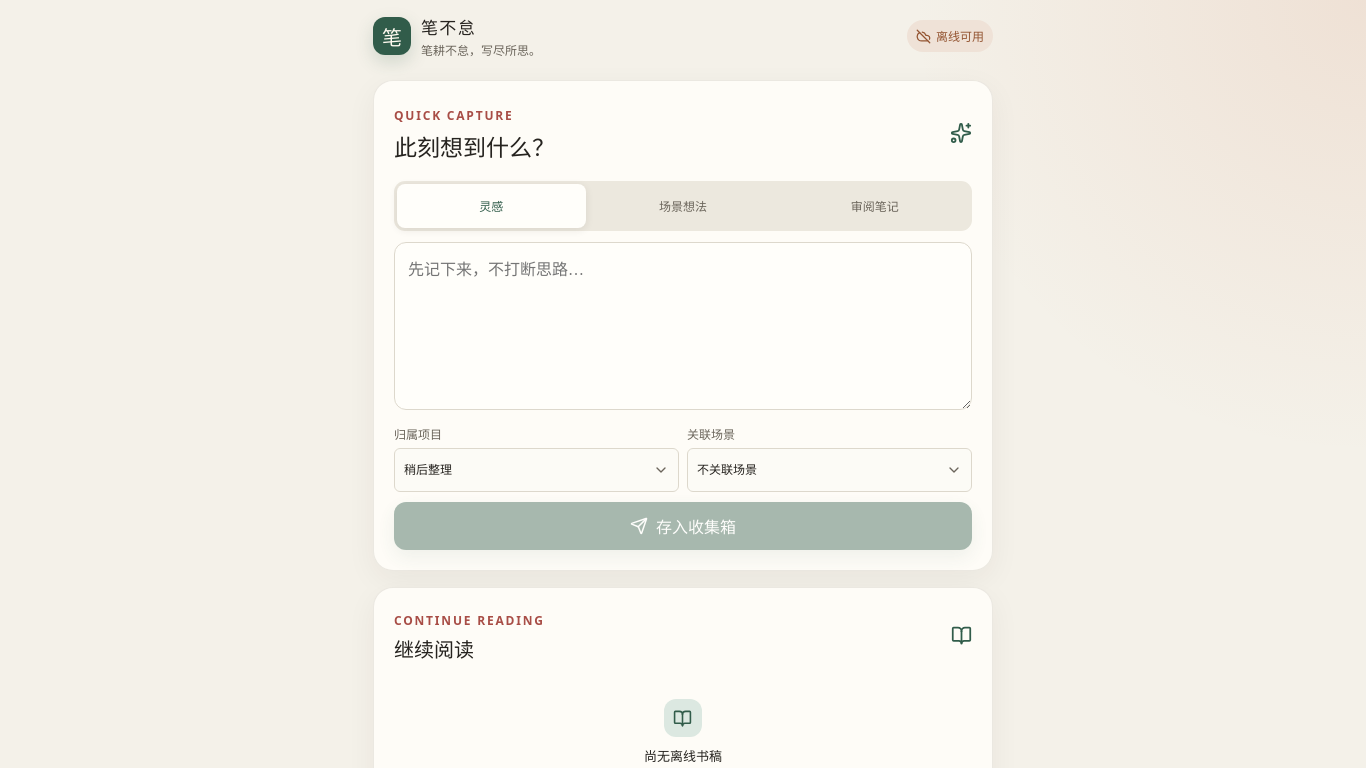
MobileHome › captures locally while offline and keeps the homepage scope narrow
The width and height of the screenshot is (1366, 768).
Expected: the text "离线可用" is shown, [936, 27, 984, 45]
In the text box named "记录内容": (683,326) [394, 242, 972, 410], type "雨落在旧车站的铁轨上"
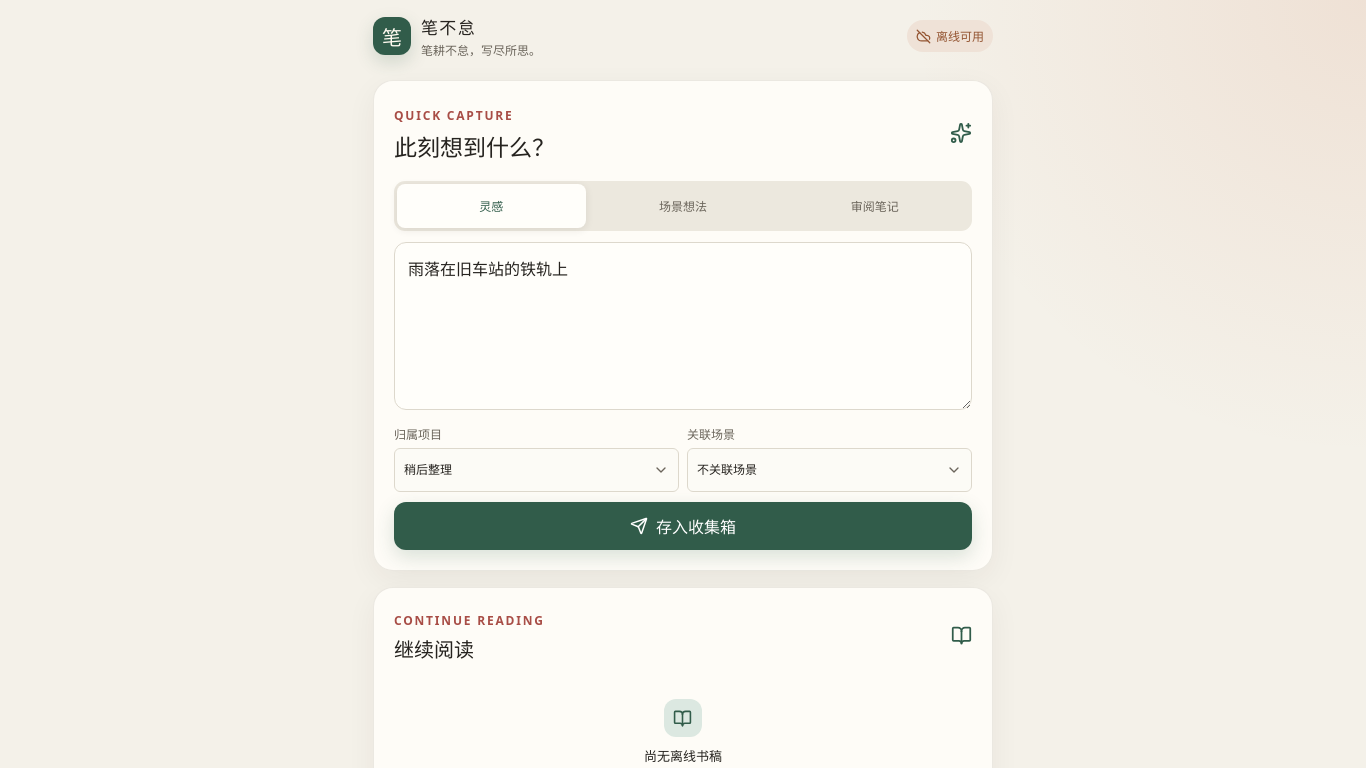
Click the button "存入收集箱": (683,526) [394, 502, 972, 550]
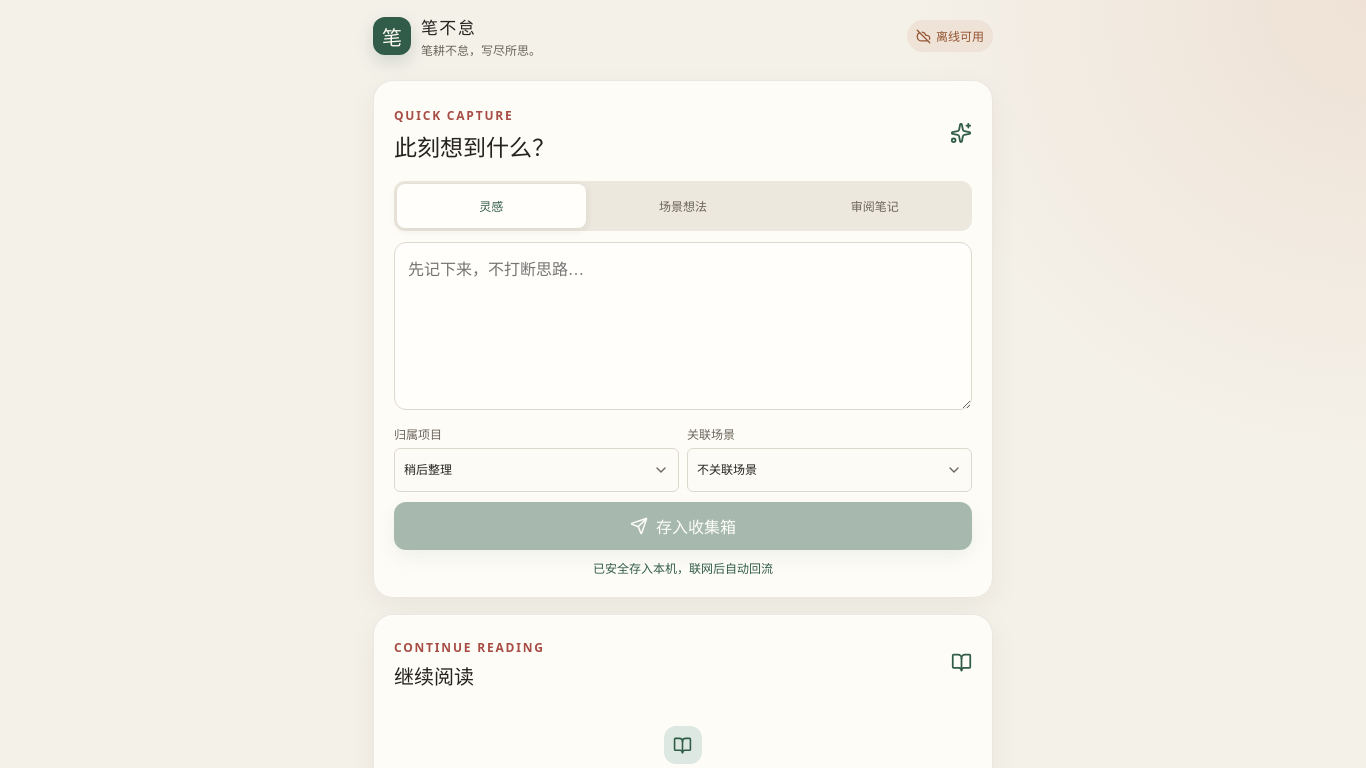
Expected: the text "已安全存入本机，联网后自动回流" is shown, [593, 560, 773, 577]
